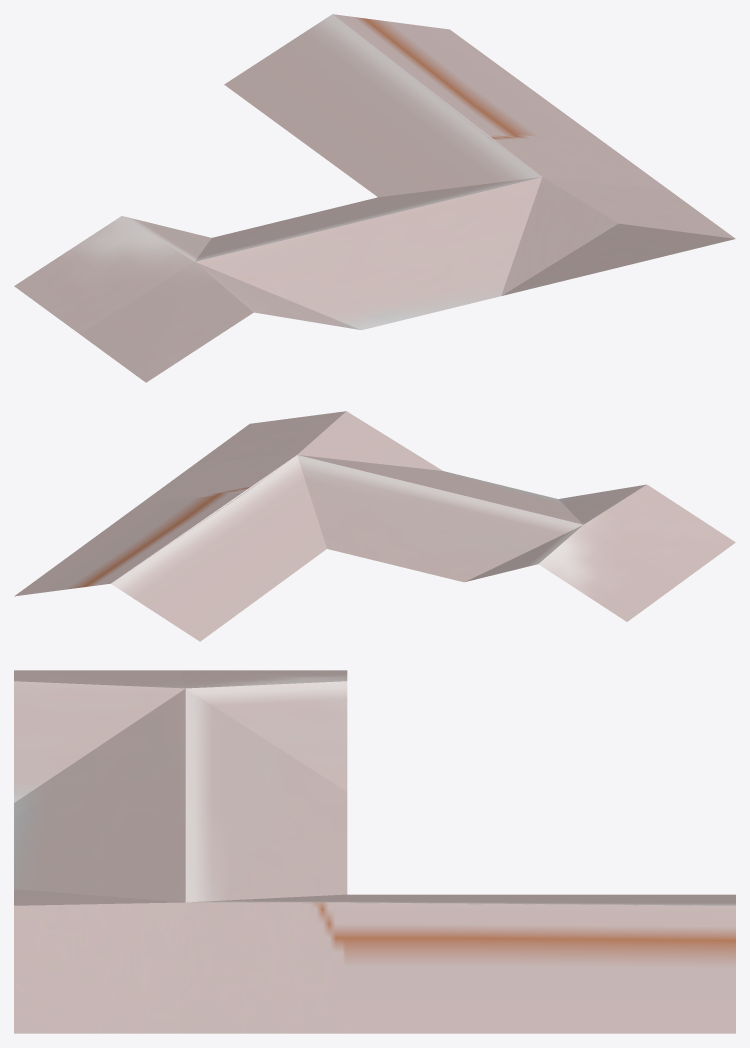
Rendered from roof_L.glb.
3 views of the same model, one above another, from view 1: azimuth 30°, elevation 25°; view 2: azimuth 150°, elevation 25°; view 3: azimuth 270°, elevation 25° (orthographic). The views are drawn at different scales.
Visible parts, largest first — view 1: Cube.004; view 2: Cube.004; view 3: Cube.004.
Part boxes in pixels (<box>): Cube.004: <box>14,14,735,382</box>; Cube.004: <box>14,411,735,641</box>; Cube.004: <box>14,670,735,1033</box>.
Size of the model in its own units: 6.5 by 0.4638 by 5.46.
Materials: 1 (1 with a texture image).
